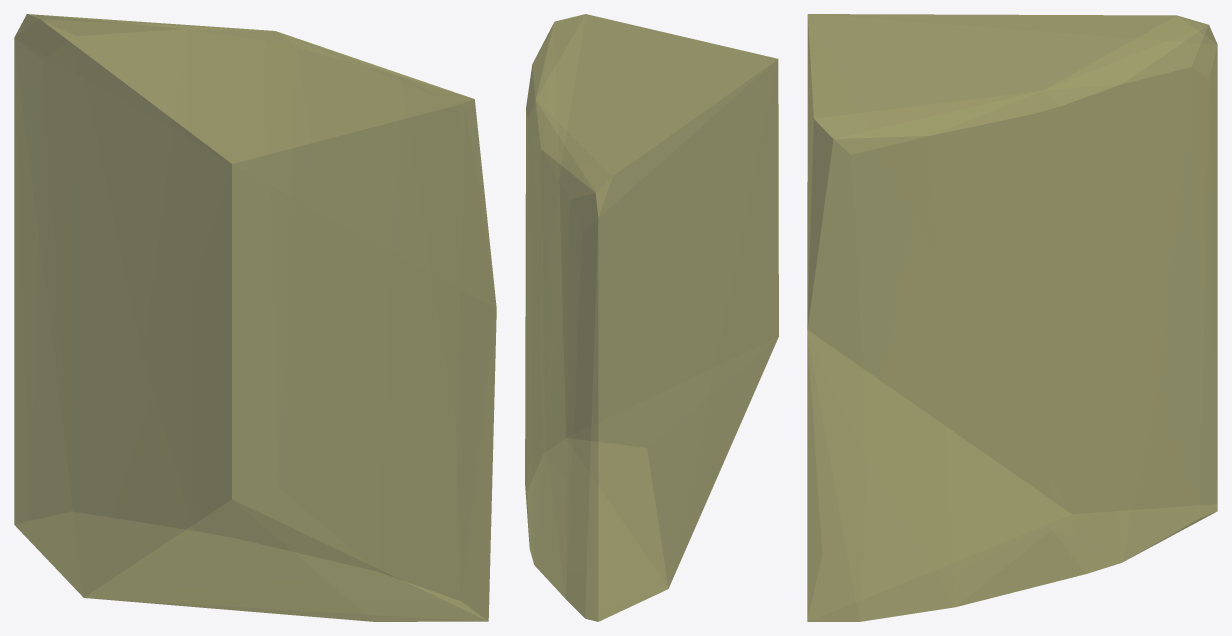
The picture shows the model from 3 angles, left to right: view 1: azimuth 30°, elevation 25°; view 2: azimuth 150°, elevation 25°; view 3: azimuth 270°, elevation 25°; orthographic projection. The views are drawn at different scales.
Visible parts, largest first — view 1: Shape_IndexedFaceSet.006_Shape_IndexedFaceSet.9092; view 2: Shape_IndexedFaceSet.006_Shape_IndexedFaceSet.9092; view 3: Shape_IndexedFaceSet.006_Shape_IndexedFaceSet.9092.
Part boxes in pixels (box(x1,y1,x2,y2)): Shape_IndexedFaceSet.006_Shape_IndexedFaceSet.9092: box(14, 14, 496, 621); Shape_IndexedFaceSet.006_Shape_IndexedFaceSet.9092: box(525, 14, 778, 621); Shape_IndexedFaceSet.006_Shape_IndexedFaceSet.9092: box(807, 14, 1217, 621).
Size of the model in its own units: 0.1017 by 0.1912 by 0.1409.
